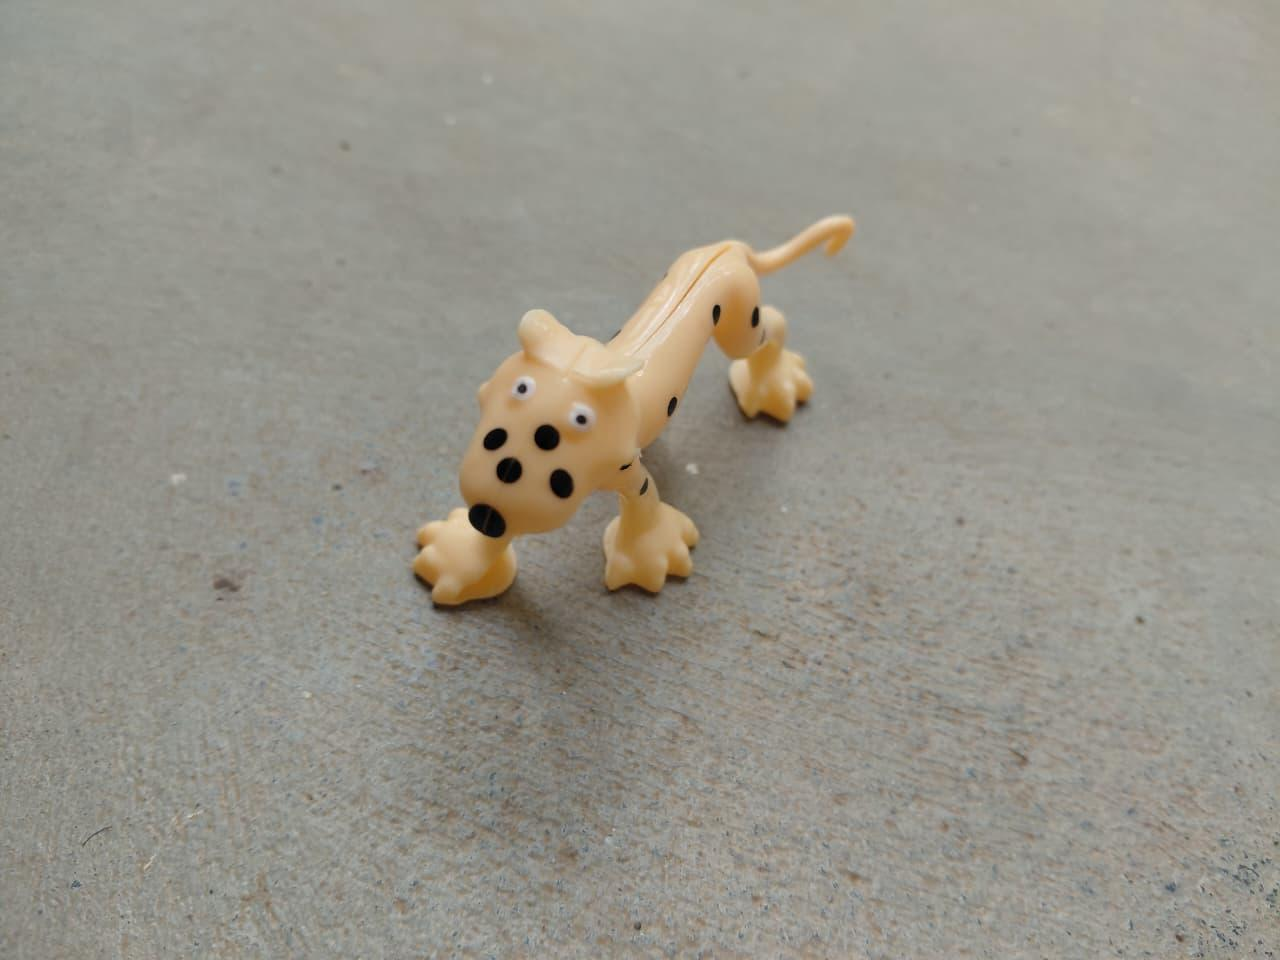cheetah: (388, 207, 847, 613)
